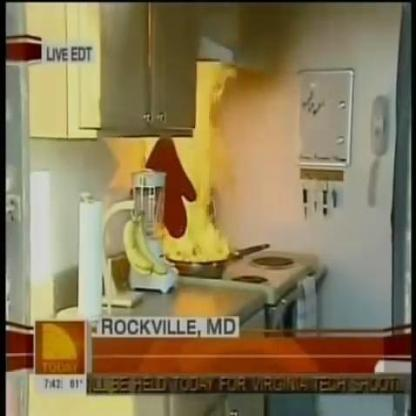fire: (153, 56, 230, 262)
